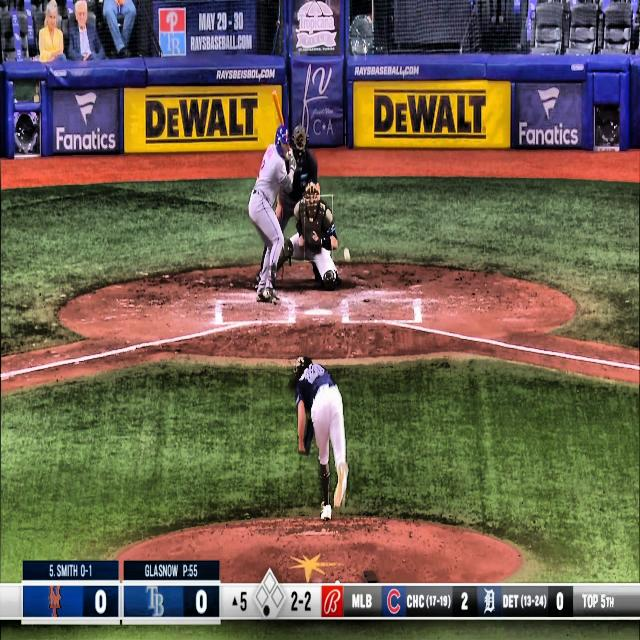baseball: (343, 246, 351, 264)
